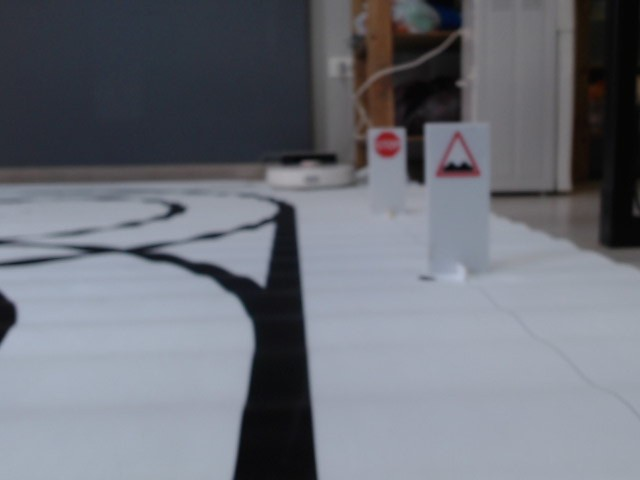Nerov: (434, 133, 481, 178)
Stop: (375, 133, 399, 158)
